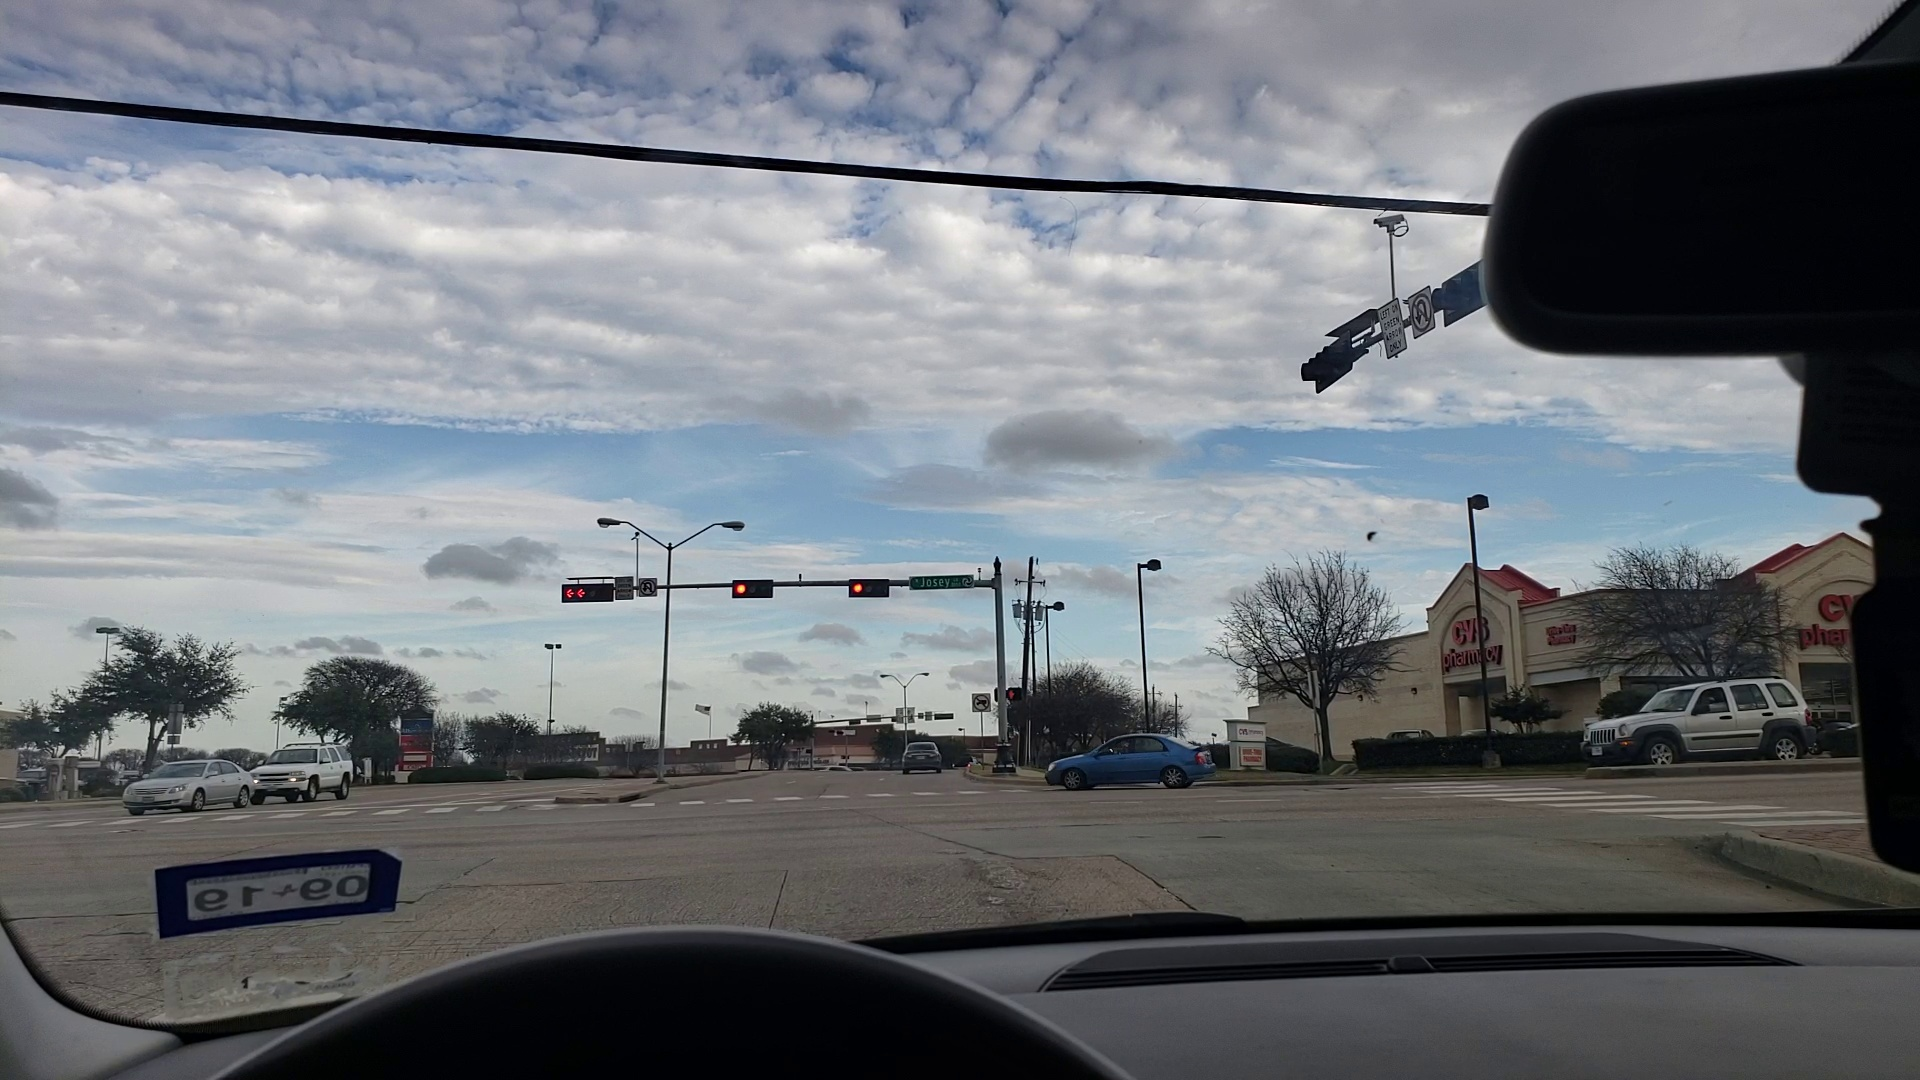car: (1569, 674, 1818, 771), (1047, 736, 1213, 790), (243, 740, 365, 807), (124, 761, 255, 811), (897, 735, 945, 775)
traffic light: (847, 578, 889, 596), (562, 585, 611, 601), (735, 582, 775, 597)
